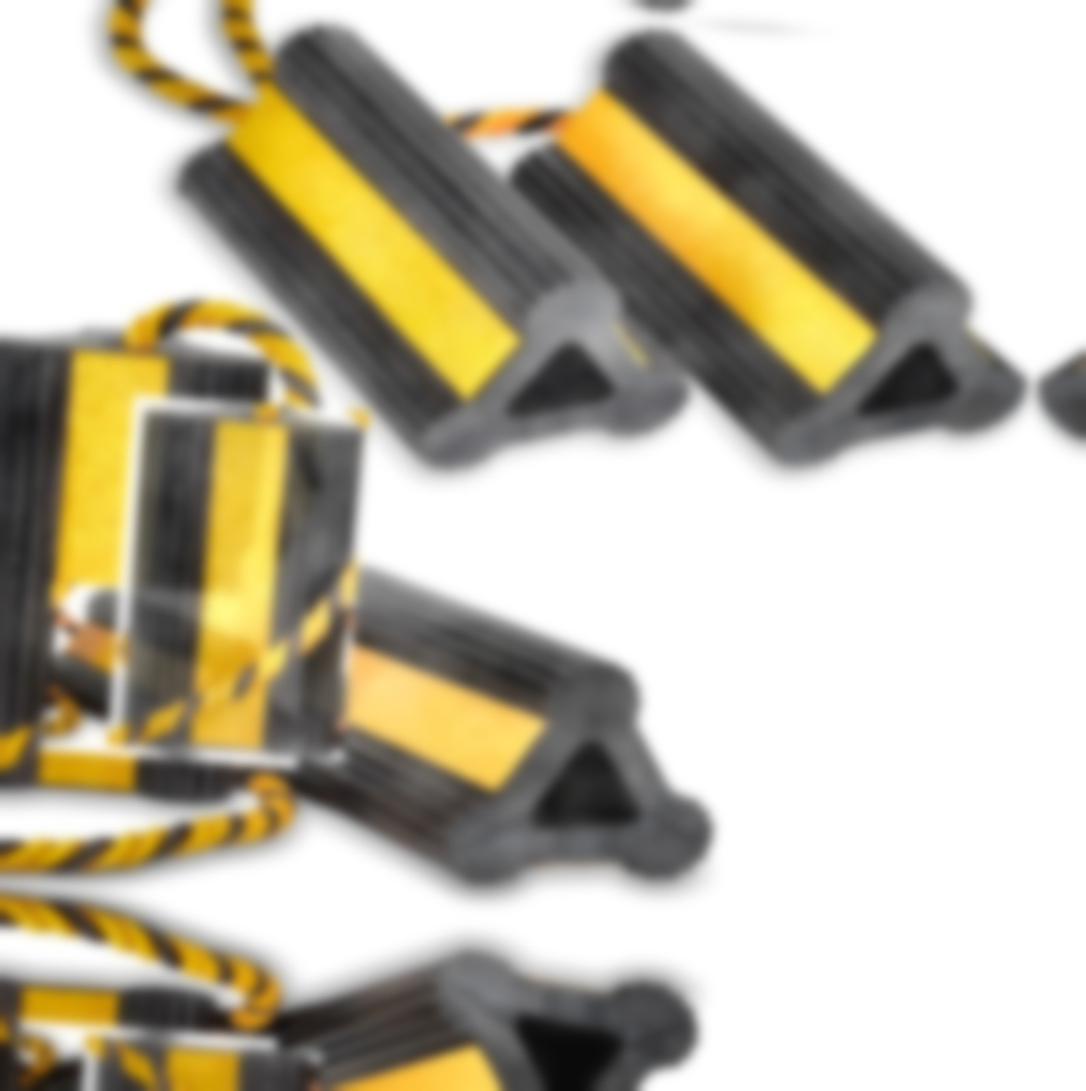chock: (485, 17, 1053, 501), (155, 13, 715, 497), (218, 550, 731, 907), (0, 315, 277, 809), (107, 394, 369, 762), (190, 927, 703, 1091), (40, 582, 309, 769), (8, 1021, 277, 1091)
